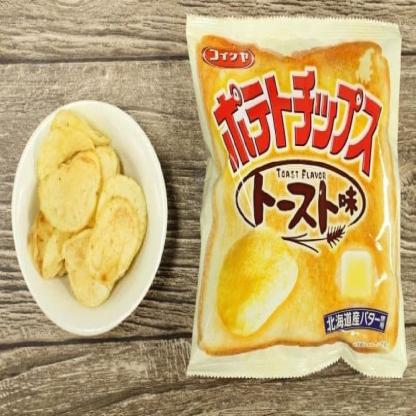potatochip: (176, 0, 408, 388)
